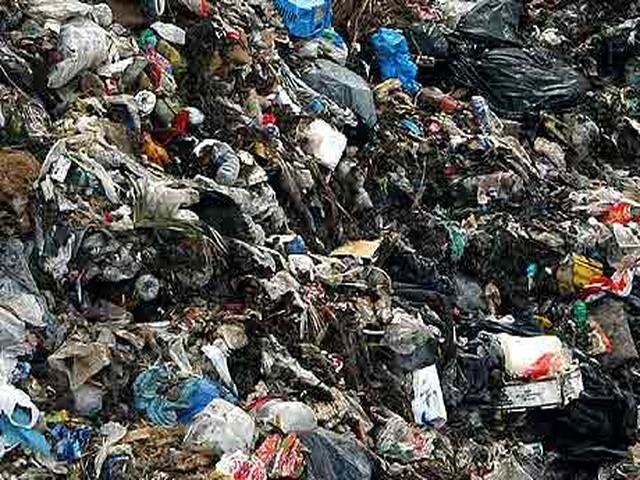garbage: (5, 8, 621, 459)
